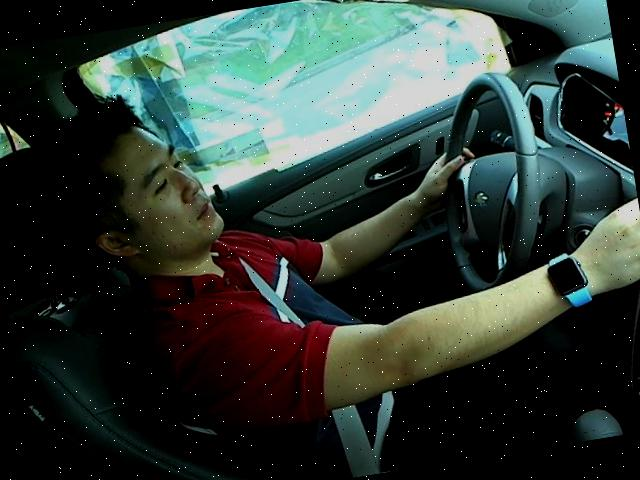c3 - Operating the Radio: (5, 13, 639, 456)
